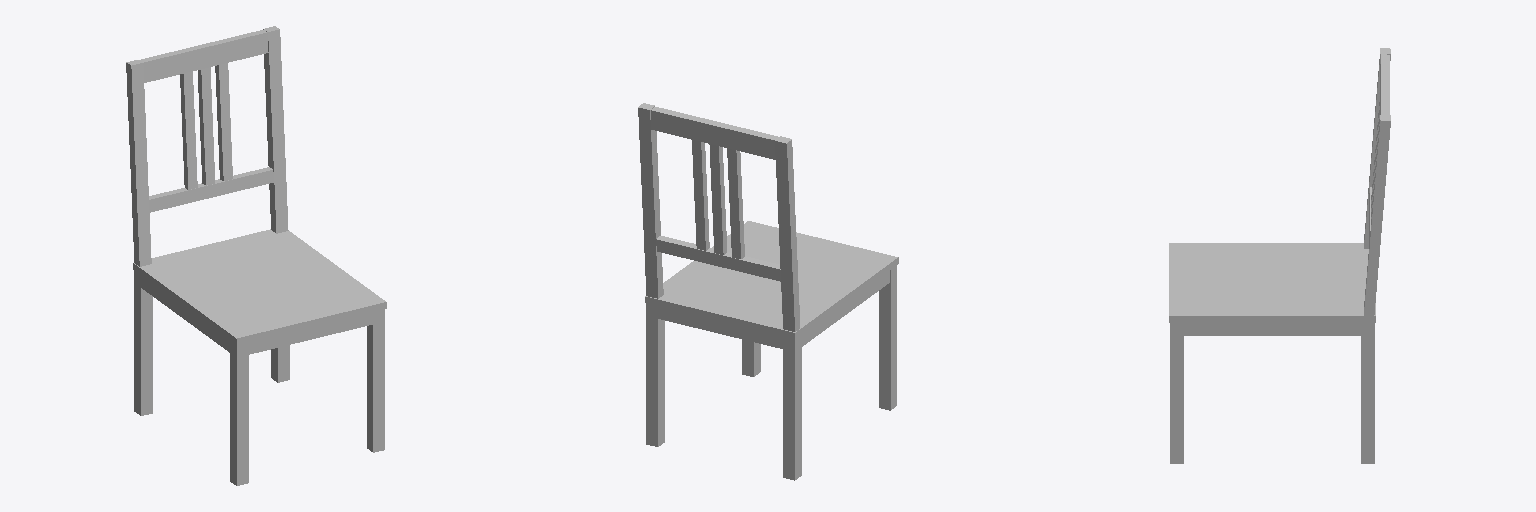
Rendered from STEFAN.obj.
3 renders of one model, left to right at view 1: azimuth 30°, elevation 25°; view 2: azimuth 150°, elevation 25°; view 3: azimuth 270°, elevation 25°, orthographic.
Parts seen in each view (by area): view 1: Cube.005_Cube.006; view 2: Cube.005_Cube.006; view 3: Cube.005_Cube.006.
Boxes of the visible parts, x1=… form: Cube.005_Cube.006: x1=126, y1=26, x2=386, y2=485; Cube.005_Cube.006: x1=638, y1=103, x2=898, y2=480; Cube.005_Cube.006: x1=1169, y1=48, x2=1390, y2=463.
Bounding box in the file's own units: 0.8203 × 1.8 × 1.05.